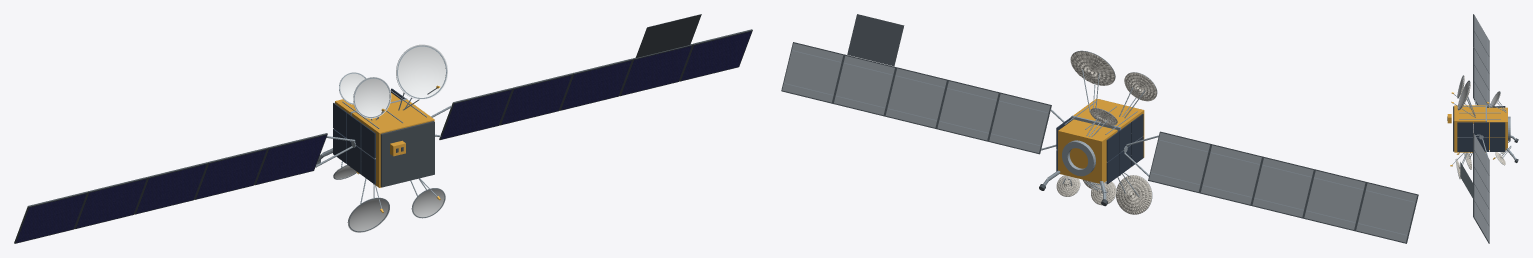
Rendered from ses-14.glb.
3 views of the same model, side by side, from view 1: azimuth 30°, elevation 25°; view 2: azimuth 150°, elevation 25°; view 3: azimuth 270°, elevation 25° (orthographic). The views are drawn at different scales.
Visible parts, largest first — view 1: Solar cell panel (×10), Earth-facing deck, Reflector 4 face, Payload module, Solar wing trim flap, Reflector 3 face, Reflector 1 face, Reflector 2 face, Reflector 7 face, Radiator bay; view 2: Rear array substrate (×10), Service module, Solar wing trim flap, Reflector 1 insulated back, Reflector 4 insulated back, Payload module, Launch adapter ring, Reflector 3 insulated back, Solar panel frame (×2), Reflector 6 insulated back, Reflector 5 insulated back; view 3: Rear array substrate (×10), Radiator bay (×6), Payload module, Solar panel frame (×9), Service module, Solar wing trim flap, Reflector 4 face, Earth-facing deck, Reflector 1 insulated back, Launch adapter ring, Blanket closeout seam, Reflector 6 insulated back (+4 smaller).
Part boxes in pixels (<box>): Solar cell panel (×10): <box>16,31,751,242</box>; Earth-facing deck: <box>380,121,434,187</box>; Reflector 4 face: <box>396,44,447,99</box>; Payload module: <box>352,99,434,187</box>; Solar wing trim flap: <box>635,14,701,57</box>; Reflector 3 face: <box>353,77,391,118</box>; Reflector 1 face: <box>348,198,389,232</box>; Reflector 2 face: <box>412,188,445,218</box>; Reflector 7 face: <box>339,72,366,104</box>; Radiator bay: <box>361,123,375,158</box>; Rear array substrate (×10): <box>782,43,1417,242</box>; Service module: <box>1058,119,1117,183</box>; Solar wing trim flap: <box>847,14,904,66</box>; Reflector 1 insulated back: <box>1116,175,1151,214</box>; Reflector 4 insulated back: <box>1070,51,1115,85</box>; Payload module: <box>1073,99,1144,166</box>; Launch adapter ring: <box>1062,140,1095,176</box>; Reflector 3 insulated back: <box>1124,72,1156,101</box>; Solar panel frame (×2): <box>988,92,1418,243</box>; Reflector 6 insulated back: <box>1056,175,1079,196</box>; Reflector 5 insulated back: <box>1091,181,1116,205</box>; Rear array substrate (×10): <box>1474,15,1489,241</box>; Radiator bay (×6): <box>1457,122,1505,151</box>; Payload module: <box>1454,105,1485,152</box>; Solar panel frame (×9): <box>1473,14,1489,243</box>; Service module: <box>1487,107,1507,150</box>; Solar wing trim flap: <box>1460,162,1473,198</box>; Reflector 4 face: <box>1457,80,1469,110</box>; Earth-facing deck: <box>1453,106,1454,151</box>; Reflector 1 insulated back: <box>1464,152,1471,169</box>; Launch adapter ring: <box>1508,116,1510,141</box>; Blanket closeout seam: <box>1459,112,1500,113</box>; Reflector 6 insulated back: <box>1495,152,1505,164</box>.
Bounding box in the file's own units: 39.27 × 9.08 × 5.84.
Materials: 10 (1 with a texture image).
